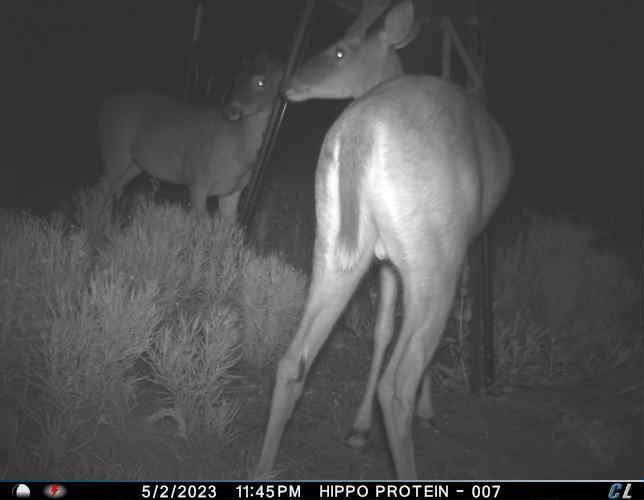Deer: (246, 1, 518, 480), (72, 39, 286, 228)
